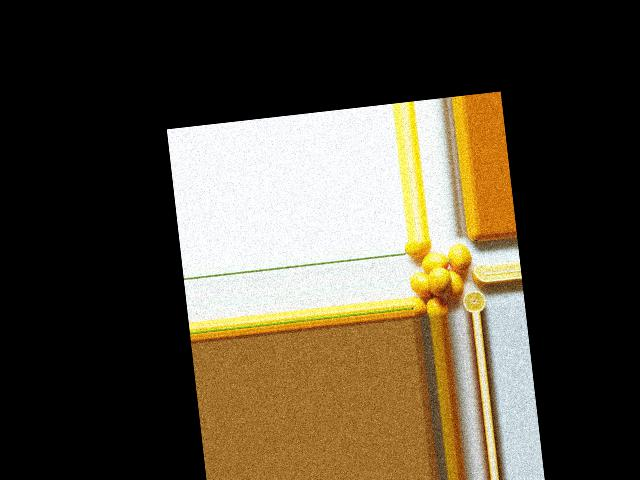lemon: (425, 295, 447, 317)
